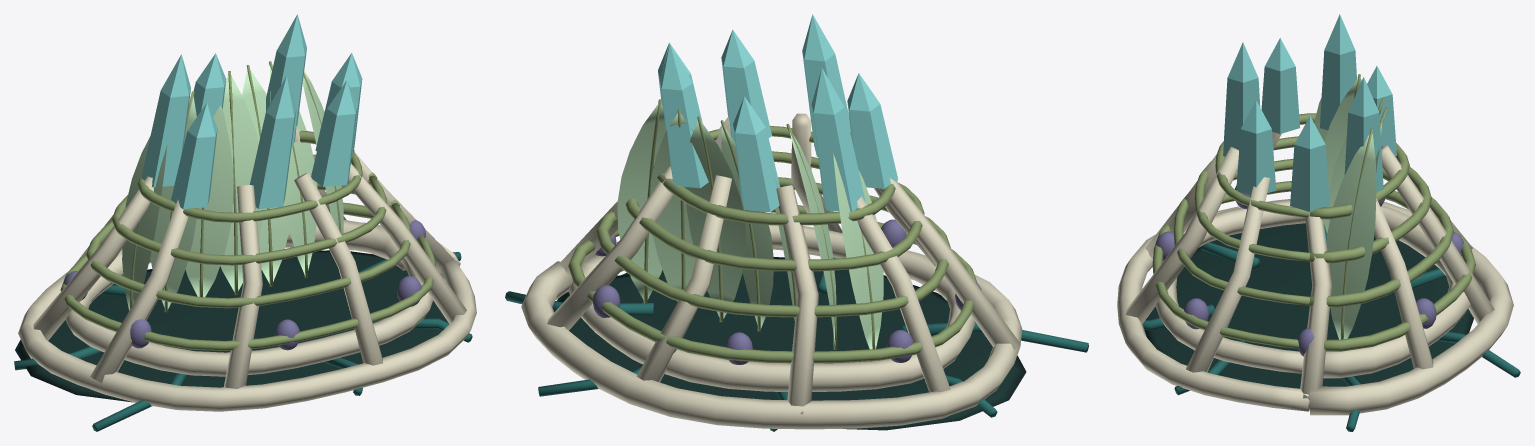
File: great_work_memory_reef_stage_3.obj
3 views of the same model, side by side, from view 1: azimuth 30°, elevation 25°; view 2: azimuth 150°, elevation 25°; view 3: azimuth 270°, elevation 25° (orthographic). The views are drawn at different scales.
Visible parts, largest first — view 1: accreting_reef_foundation.006, accreting_reef_foundation.007, irregular_anchoring_lobe.120, irregular_anchoring_lobe.121, living_reef_lattice.004, irregular_anchoring_lobe.122, living_reef_lattice.005, cleaved_mineral.030, bent_living_blade.220, cleaved_mineral.028, reef_buttress.024, reef_buttress.025 (+22 smaller); view 2: accreting_reef_foundation.006, accreting_reef_foundation.007, irregular_anchoring_lobe.120, living_reef_lattice.004, living_reef_lattice.005, irregular_anchoring_lobe.121, irregular_anchoring_lobe.122, reef_buttress.021, living_reef_lattice.006, cleaved_mineral.028, bent_living_blade.222, reef_buttress.023 (+21 smaller); view 3: accreting_reef_foundation.006, accreting_reef_foundation.007, irregular_anchoring_lobe.122, irregular_anchoring_lobe.120, bent_living_blade.224, living_reef_lattice.004, living_reef_lattice.005, reef_buttress.026, living_reef_lattice.006, reef_buttress.025, reef_buttress.018, reef_buttress.020 (+18 smaller).
Part boxes in pixels (<box>): accreting_reef_foundation.006: <box>18,222,476,411</box>; accreting_reef_foundation.007: <box>65,220,433,376</box>; irregular_anchoring_lobe.120: <box>15,266,262,402</box>; irregular_anchoring_lobe.121: <box>226,250,434,318</box>; living_reef_lattice.004: <box>60,202,435,350</box>; irregular_anchoring_lobe.122: <box>191,302,448,387</box>; living_reef_lattice.005: <box>86,183,411,308</box>; cleaved_mineral.030: <box>249,75,296,208</box>; bent_living_blade.220: <box>185,106,233,297</box>; cleaved_mineral.028: <box>141,54,190,187</box>; reef_buttress.024: <box>224,185,262,388</box>; reef_buttress.025: <box>294,173,382,365</box>; accreting_reef_foundation.006: <box>521,241,1022,429</box>; accreting_reef_foundation.007: <box>568,225,975,391</box>; irregular_anchoring_lobe.120: <box>660,329,1026,430</box>; living_reef_lattice.004: <box>568,205,977,363</box>; living_reef_lattice.005: <box>596,177,950,317</box>; irregular_anchoring_lobe.121: <box>554,275,768,371</box>; irregular_anchoring_lobe.122: <box>621,257,949,332</box>; reef_buttress.021: <box>776,185,818,414</box>; living_reef_lattice.006: <box>625,151,924,271</box>; cleaved_mineral.028: <box>811,68,865,211</box>; bent_living_blade.222: <box>685,121,745,318</box>; reef_buttress.023: <box>879,178,1020,349</box>; accreting_reef_foundation.006: <box>1117,199,1513,415</box>; accreting_reef_foundation.007: <box>1155,199,1470,378</box>; irregular_anchoring_lobe.122: <box>1144,255,1306,384</box>; irregular_anchoring_lobe.120: <box>1193,223,1473,347</box>; bent_living_blade.224: <box>1326,133,1376,339</box>; living_reef_lattice.004: <box>1152,181,1475,351</box>; living_reef_lattice.005: <box>1173,159,1453,307</box>; reef_buttress.026: <box>1186,177,1270,372</box>; living_reef_lattice.006: <box>1194,136,1431,263</box>; reef_buttress.025: <box>1125,147,1239,323</box>; reef_buttress.018: <box>1300,212,1331,400</box>; reef_buttress.020: <box>1381,145,1494,323</box>.
Bounding box in the file's own units: 6.44 × 3.84 × 4.99.
